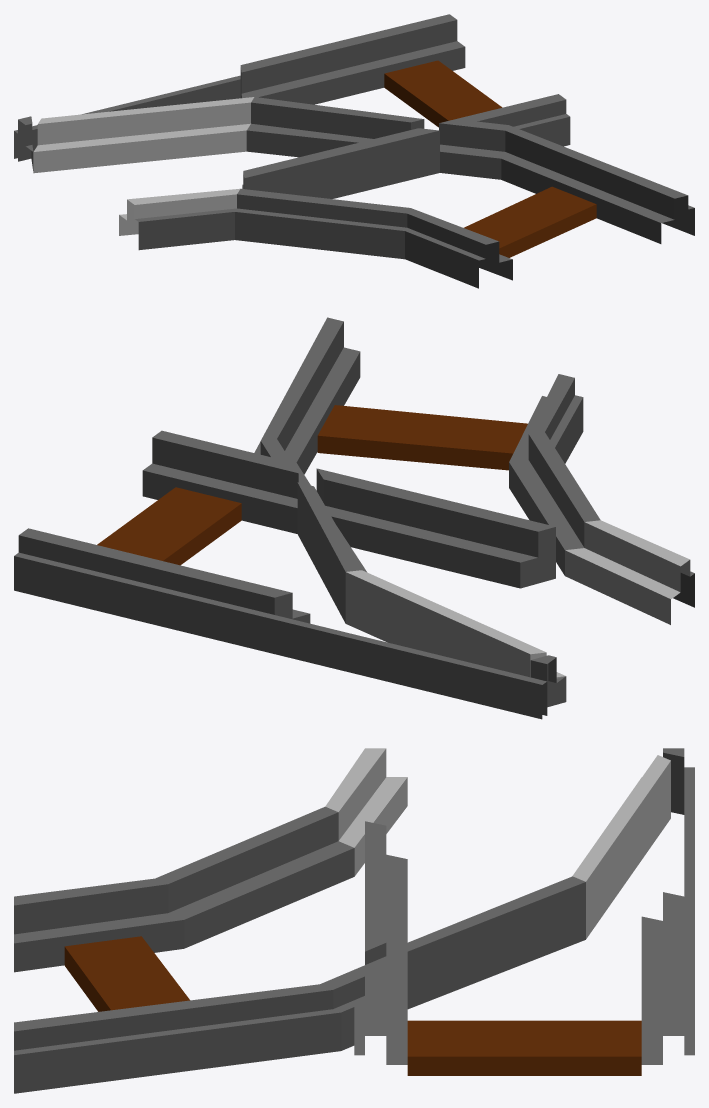
The model's file is trackpoints.obj.
The picture shows the model from 3 angles, top to bottom: view 1: azimuth 30°, elevation 25°; view 2: azimuth 150°, elevation 25°; view 3: azimuth 270°, elevation 25°; orthographic projection. The views are drawn at different scales.
Parts seen in each view (by area): view 1: trackpoints_back; view 2: trackpoints_back; view 3: trackpoints_back.
Boxes of the visible parts, x1,y1,x2,y2 form: trackpoints_back: (14,14,694,288); trackpoints_back: (14,317,694,719); trackpoints_back: (14,748,694,1093).
Bounding box in the file's own units: 2.56 × 0.24 × 2.56.
